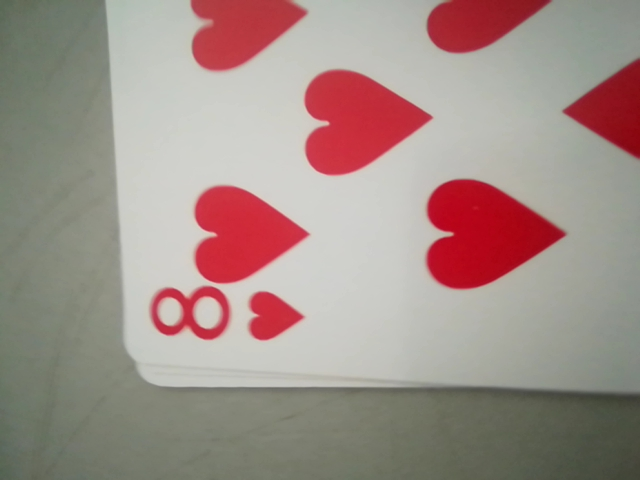hx 8: (142, 278, 309, 357)
